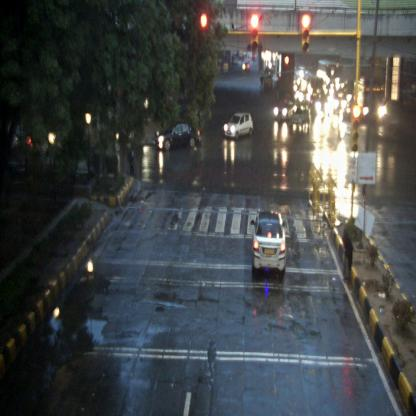bus: (354, 73, 384, 123), (319, 58, 337, 84)
car: (252, 210, 287, 281), (154, 120, 200, 150), (223, 112, 255, 138)
